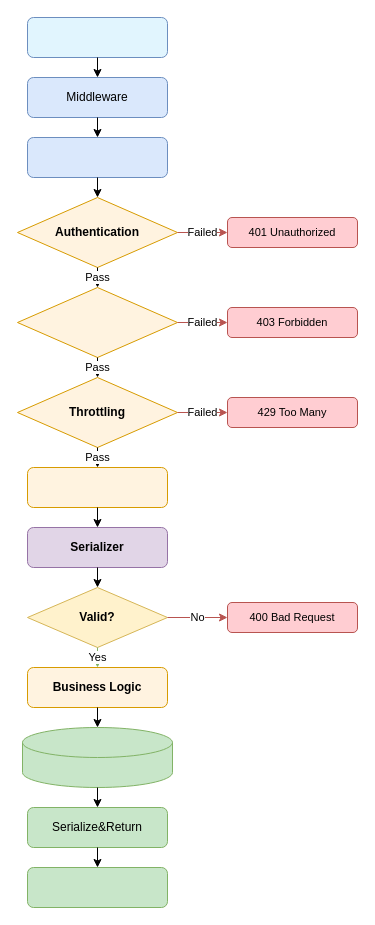
Some shapes in this 375 by 925 pixel diagram are drawn without their labels. Each missing label, with the box of its shape:
HTTP Request: (26, 16, 168, 58)
JSON Response: (26, 866, 168, 908)
Permission Check: (16, 286, 178, 358)
QuerySet / DB: (22, 726, 172, 788)
URL Router: (26, 136, 168, 178)
View / ViewSet: (26, 466, 168, 508)
